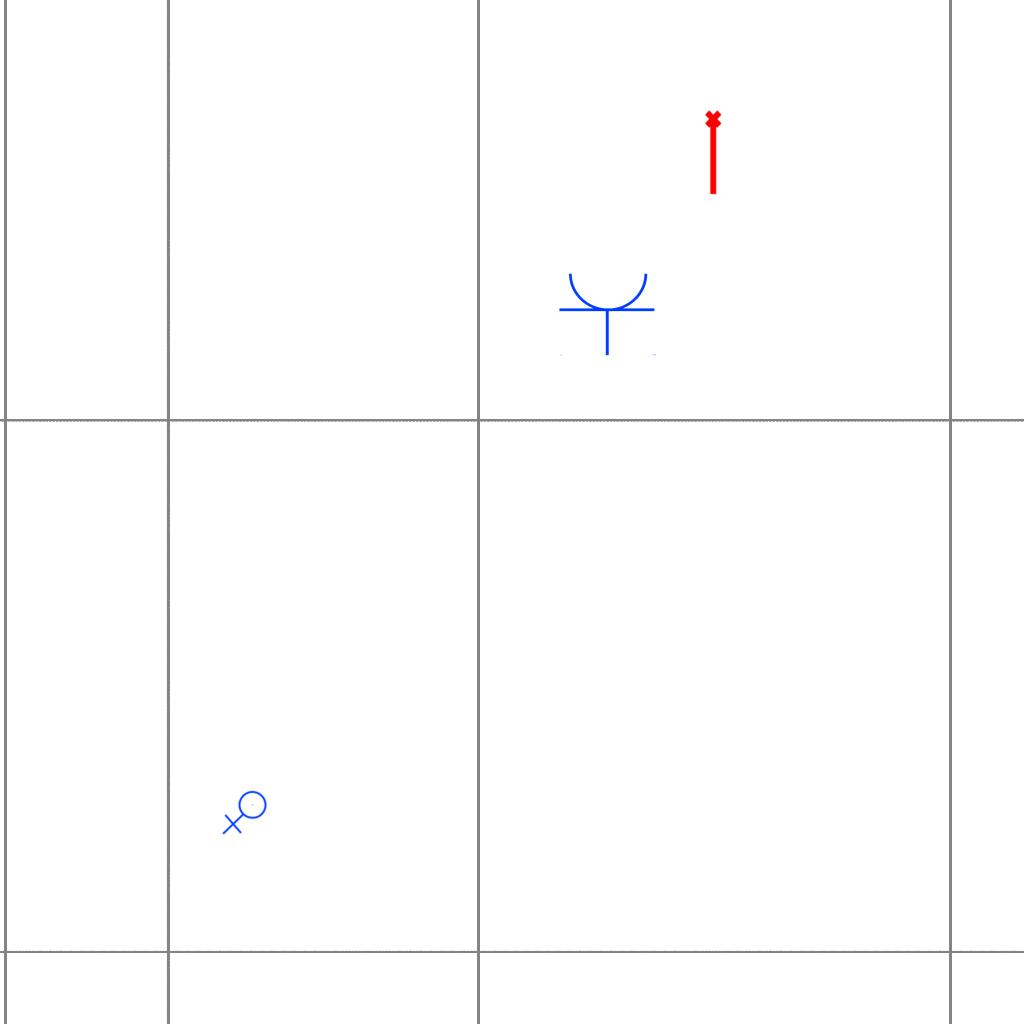ASR_Ansaugoeffnung: (703, 109, 726, 197)
Elektroanschluss_allgemein_230V_Geraeteanschlussdose_230V: (222, 790, 271, 837)
Schukosteckdose_einfach: (558, 269, 658, 356)
